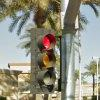Traffic light: (25, 22, 66, 93)
